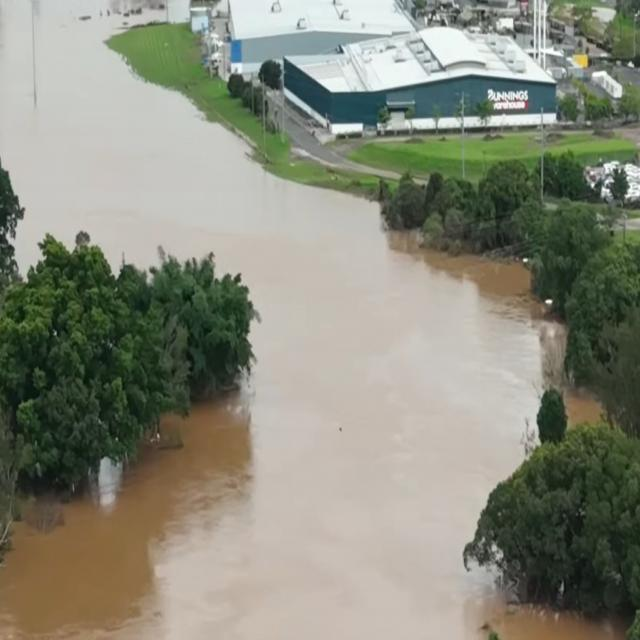flood: (0, 0, 622, 640)
house: (262, 20, 576, 124), (219, 0, 416, 56)
